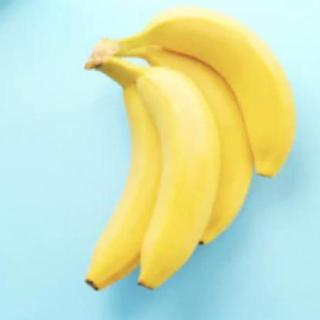banana: (148, 5, 298, 179), (142, 40, 255, 248), (83, 81, 179, 292), (137, 67, 221, 290)
